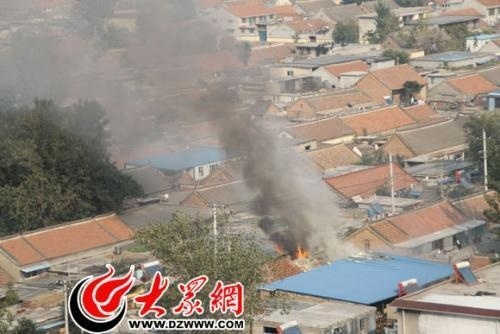fire: (292, 243, 310, 261)
